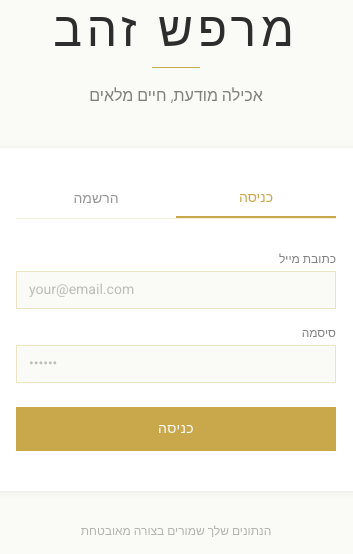
Property 2: Preservation - UI and Toggle Functionality › PRESERVATION: Should display loading state during form submission
Type "test@example.com" into the field labelled "כתובת מייל" at x=176, y=290, box [16,271,336,309]
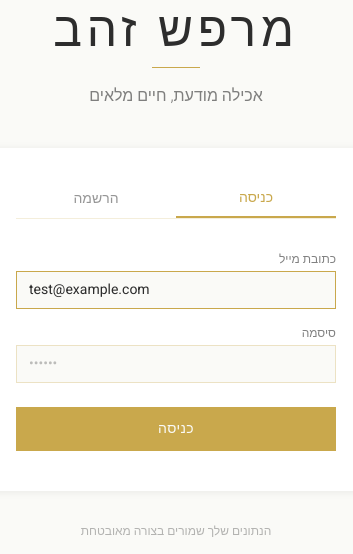
Type "password123" into the password field labelled "סיסמה" at x=176, y=364, box [16,345,336,383]
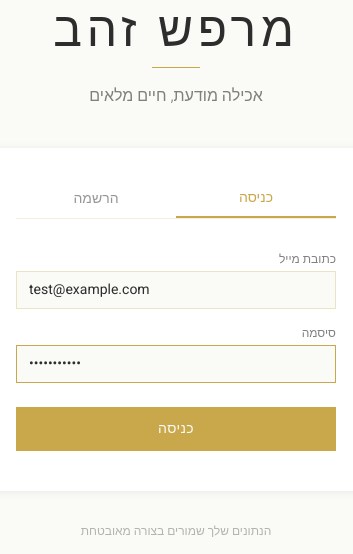
Click the button with aria-label "כניסה לחשבון" at x=176, y=429, box [16,407,336,451]
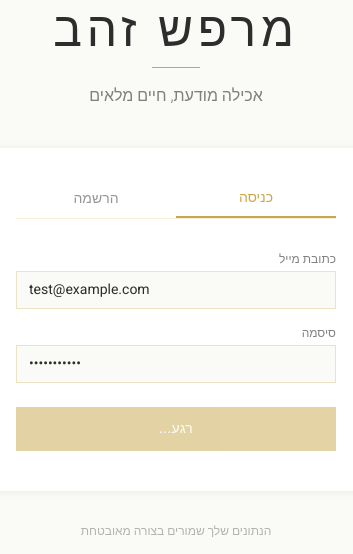
Result: the button "רגע..." is disabled at [16,407,336,451]
